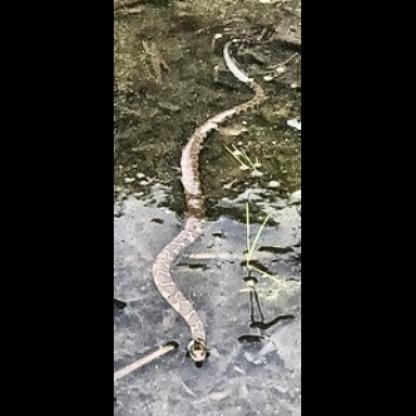Snake: (146, 32, 268, 370)
